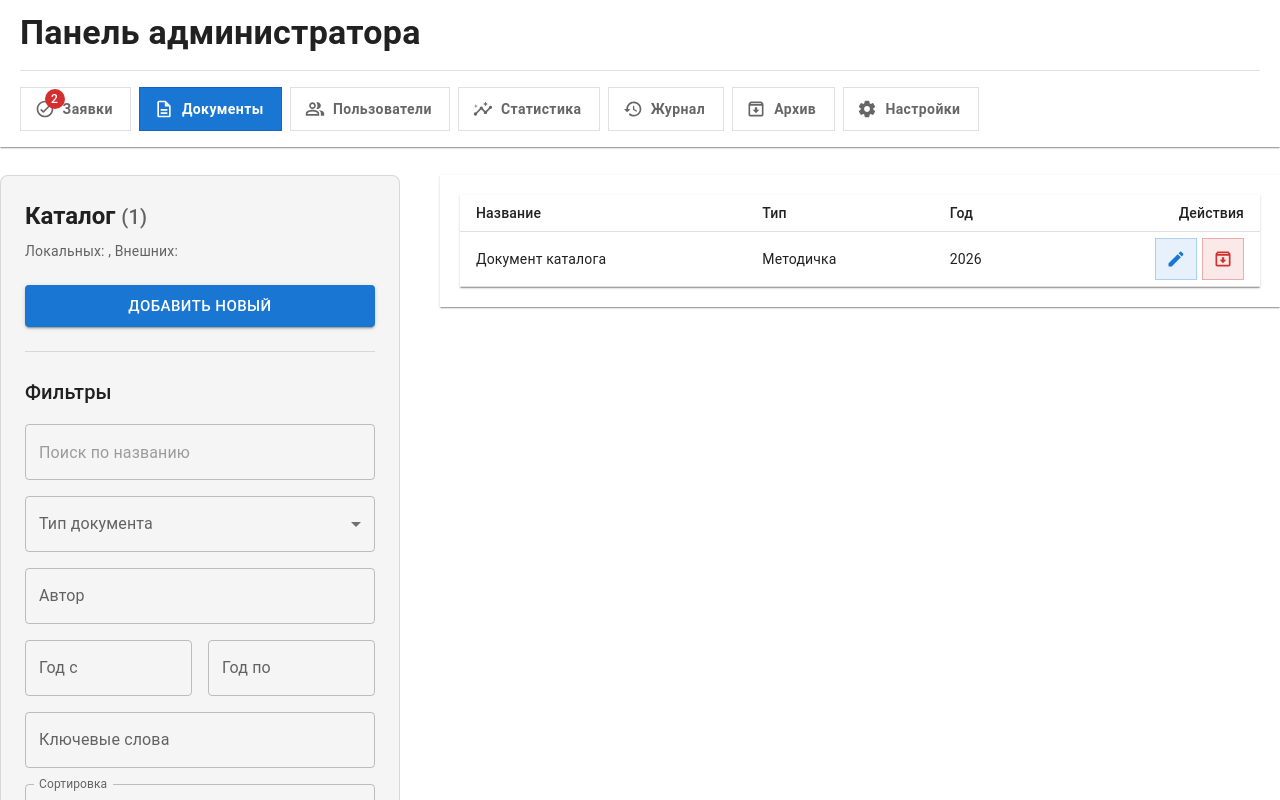
Test: AdminDocumentsPage › opens catalog drawer and saves edited document
Click the button named "Редактировать" at point(1176, 259), box [1155,238,1197,280]
(page scrolled)
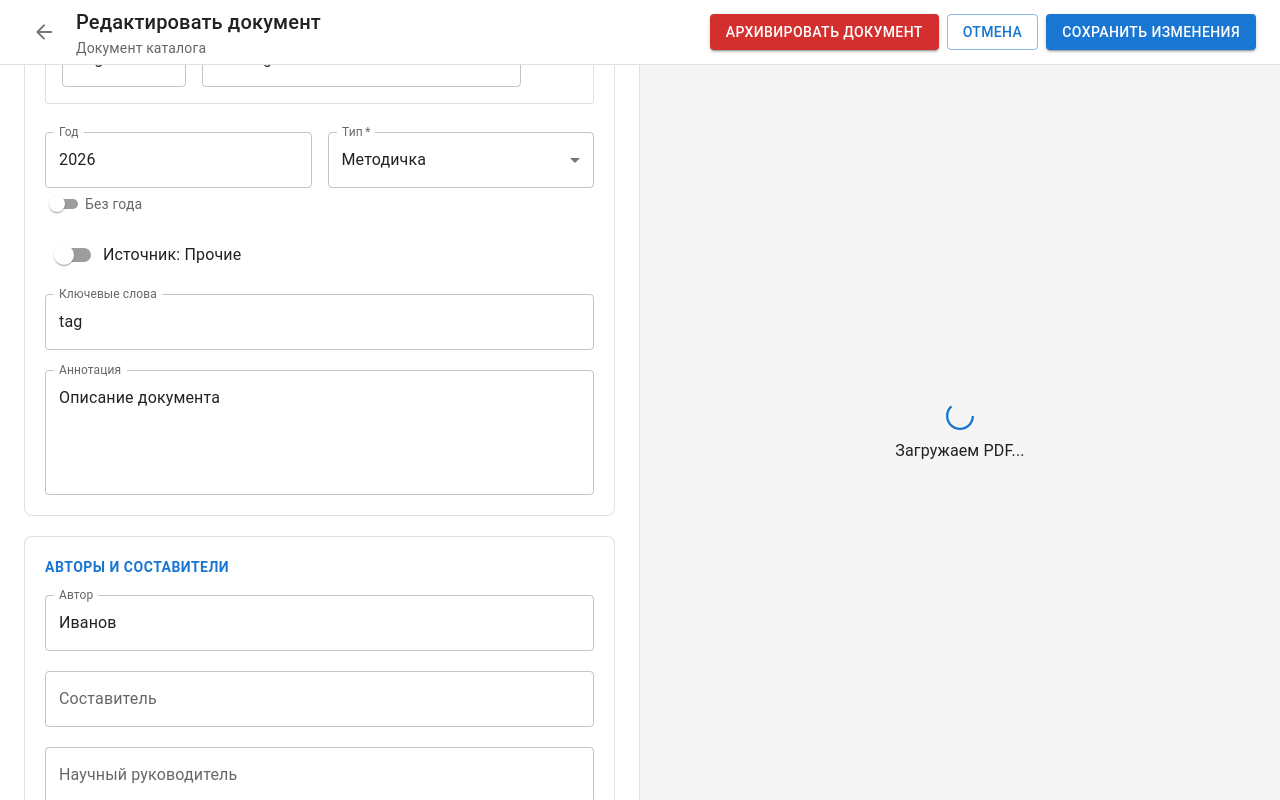
Expected: the heading "Редактировать документ" is shown, [76,10,321,34]
Replace the text in the text box labelled "Аннотация" with "Обновленное описание" at point(320, 432), box [59,386,580,478]
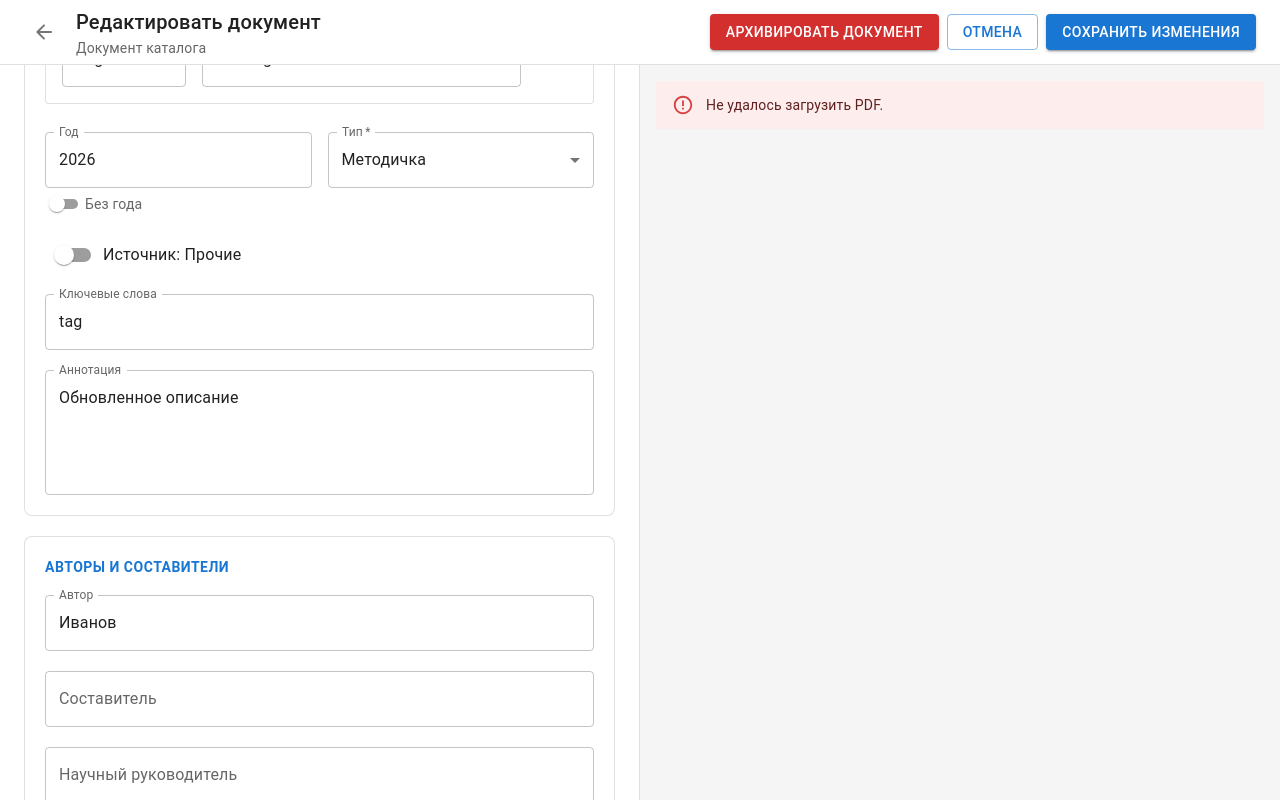
Click the button "Сохранить изменения" at point(1151, 32), box [1046,14,1256,50]
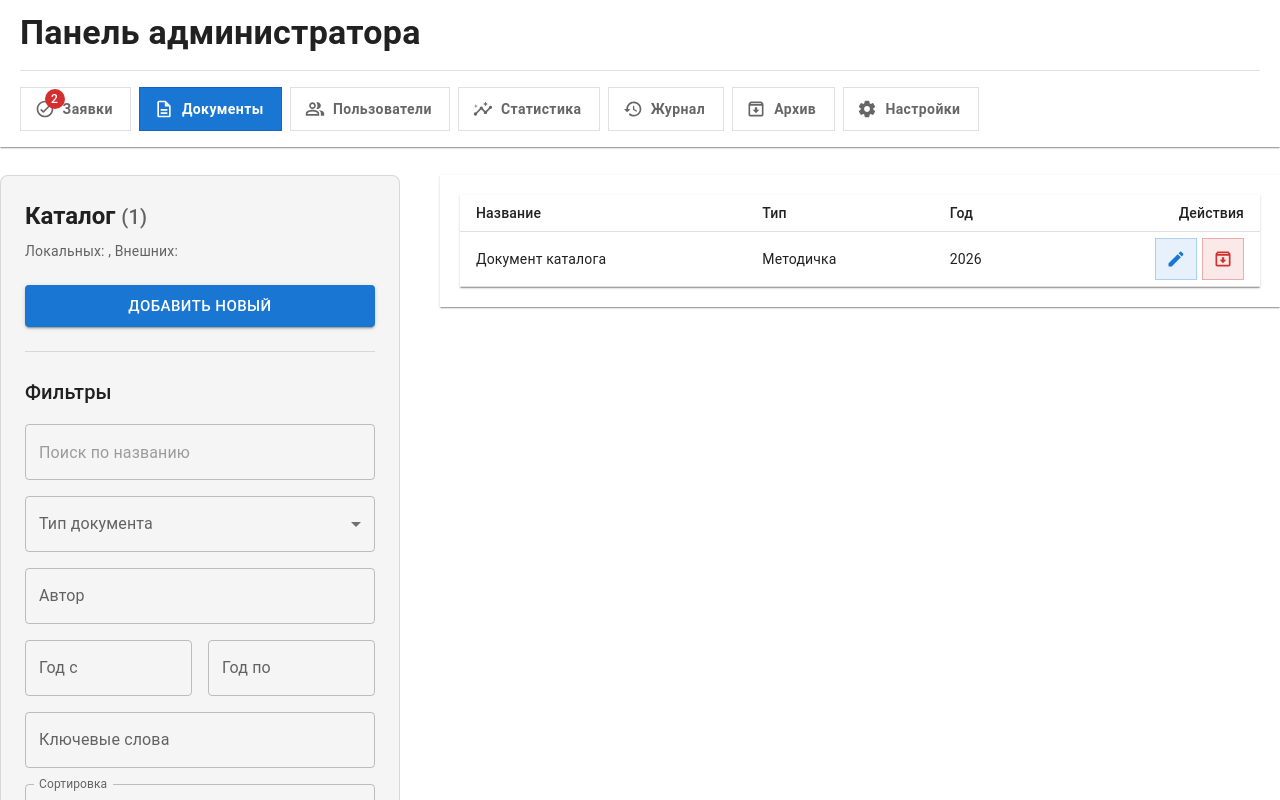
Expected: the heading "Редактировать документ" is gone
